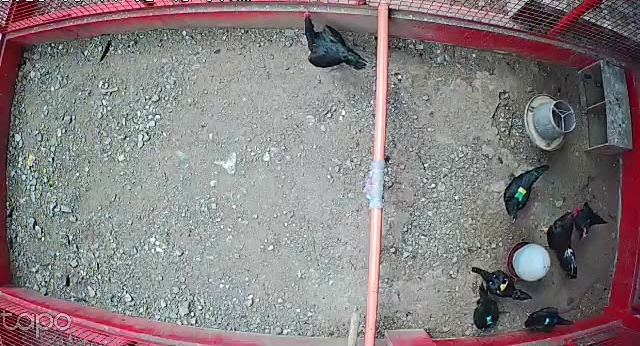Chicken: (301, 9, 369, 73), (502, 161, 550, 223), (468, 262, 532, 302), (523, 301, 578, 336), (572, 193, 610, 242), (468, 281, 503, 333)
Rooster: (541, 203, 583, 286)
Saddle_Color_Blue: (545, 316, 549, 324)
Saddle_Color_Yellow: (499, 278, 511, 291)
Saddle_Color_YellowGreen: (514, 186, 527, 200)
